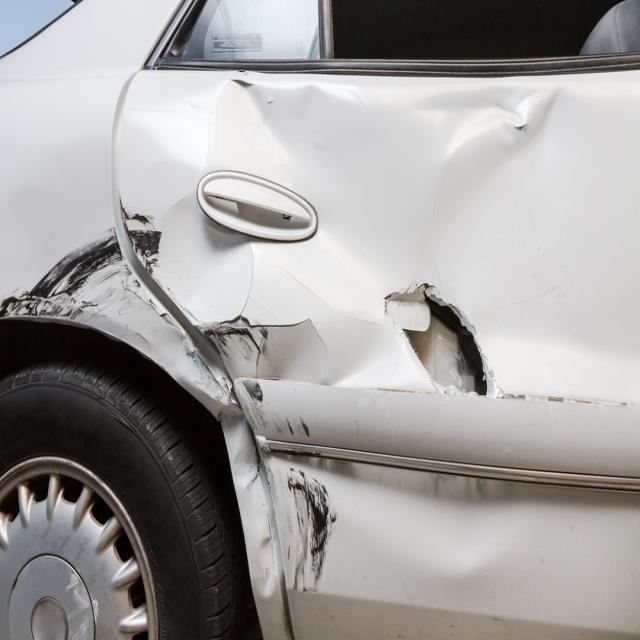crack: (403, 293, 490, 398)
dent: (121, 79, 640, 403), (147, 323, 281, 598), (344, 466, 543, 577)
scratch: (0, 227, 142, 326), (287, 468, 340, 593), (243, 377, 314, 437)
